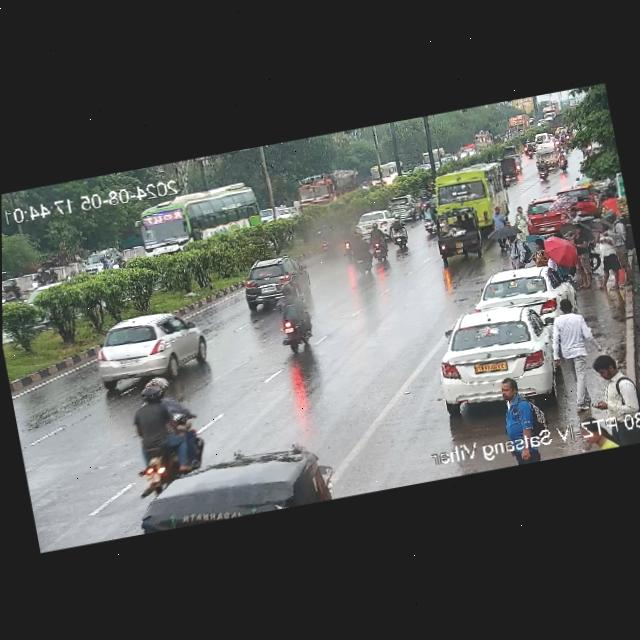bus: (126, 178, 267, 259), (421, 158, 511, 249)
car: (132, 441, 333, 533), (430, 301, 559, 414), (88, 308, 208, 391), (478, 261, 570, 322), (235, 256, 310, 312), (427, 210, 484, 264), (521, 195, 566, 235), (563, 178, 601, 216), (81, 245, 121, 273), (385, 192, 422, 222), (356, 207, 398, 232), (498, 155, 523, 182)
motorcycle: (112, 366, 209, 497), (272, 303, 320, 357), (299, 213, 342, 262), (339, 230, 371, 282), (495, 231, 530, 269), (382, 215, 413, 248), (365, 225, 391, 261), (416, 199, 440, 234), (485, 204, 513, 231), (2, 279, 24, 306), (532, 158, 554, 180), (28, 265, 50, 287), (555, 150, 573, 171), (59, 270, 78, 282), (112, 255, 126, 271), (97, 255, 109, 270), (45, 267, 57, 282), (106, 252, 115, 267)
person: (571, 348, 640, 429), (489, 375, 549, 444), (580, 220, 625, 290), (551, 298, 597, 364), (569, 416, 614, 454), (487, 212, 516, 262), (527, 239, 553, 265), (512, 202, 531, 234)
truck: (290, 165, 364, 208), (535, 149, 557, 168)
